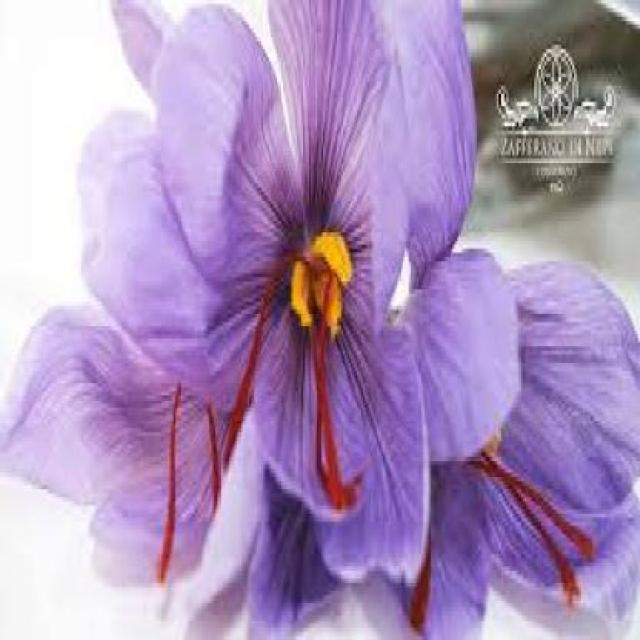saffron open: (86, 0, 429, 581)
